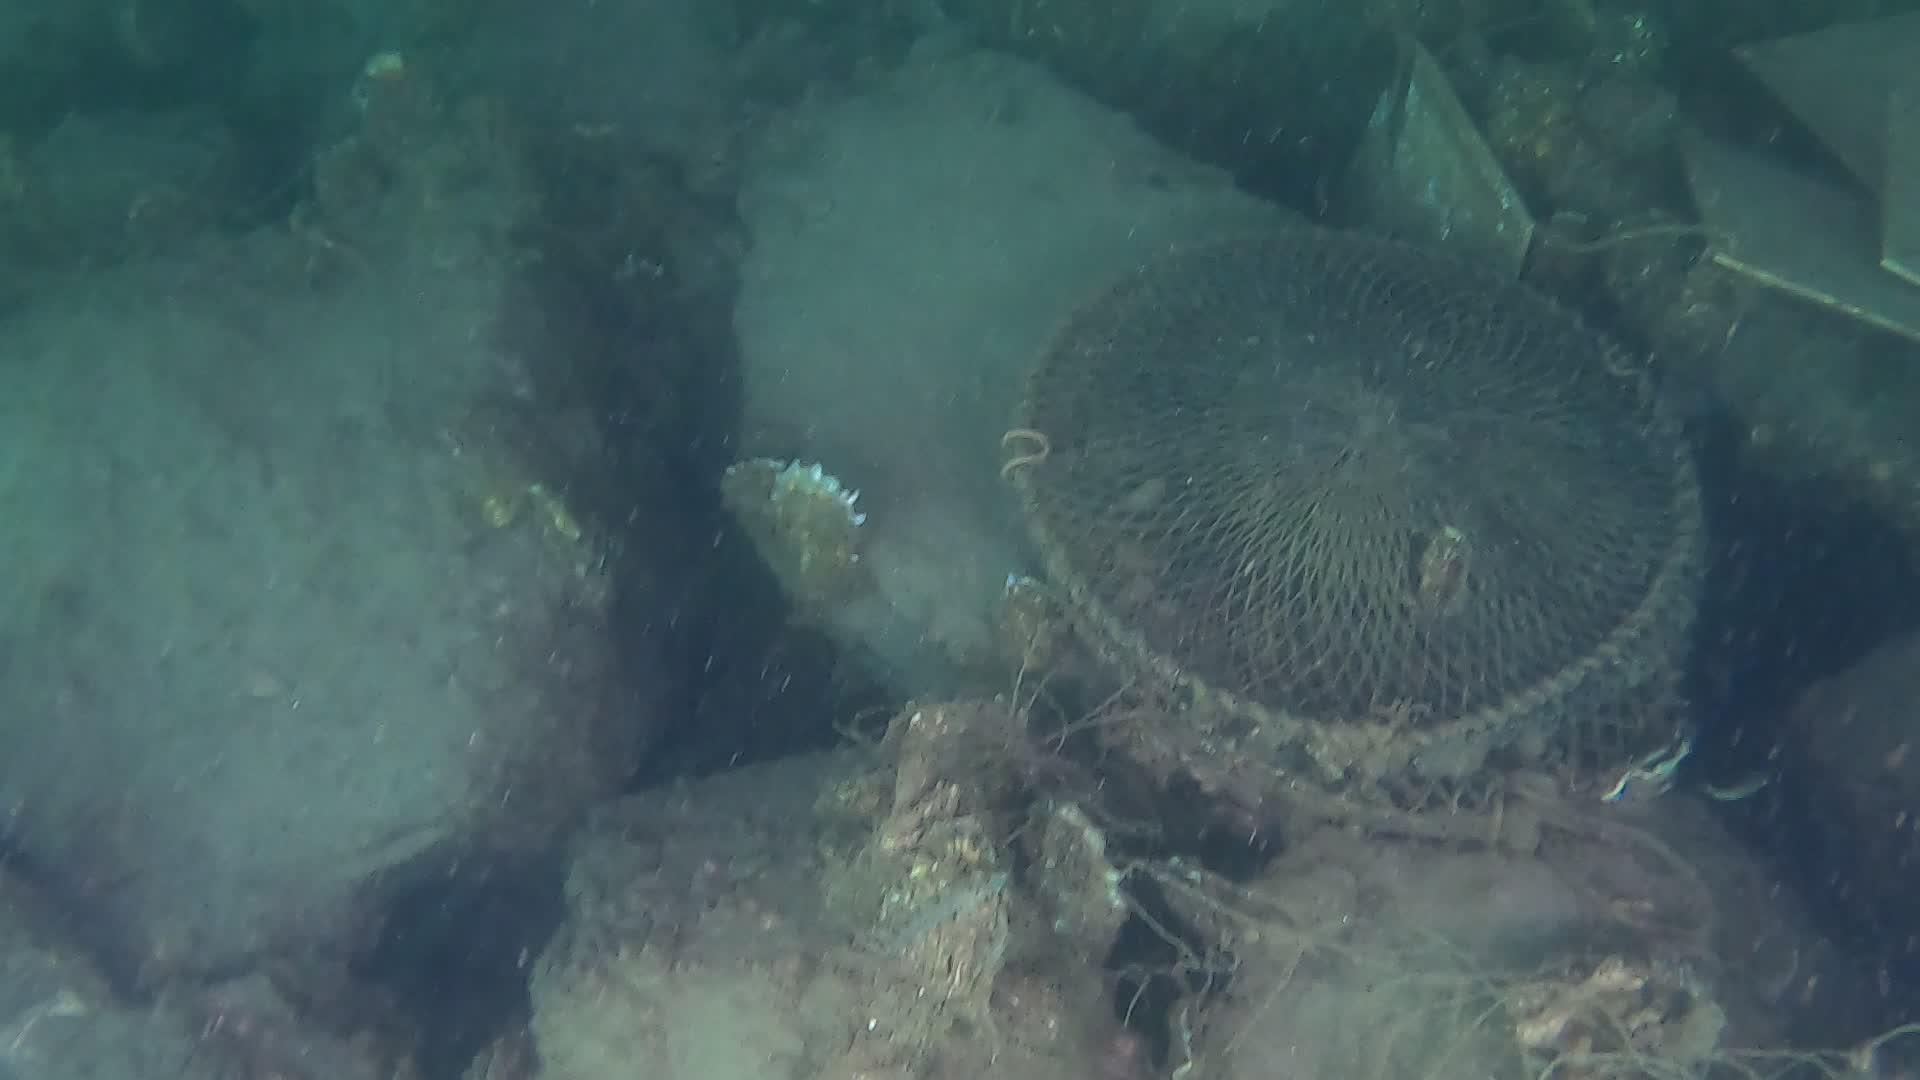circular fish trap: (1006, 222, 1713, 856)
